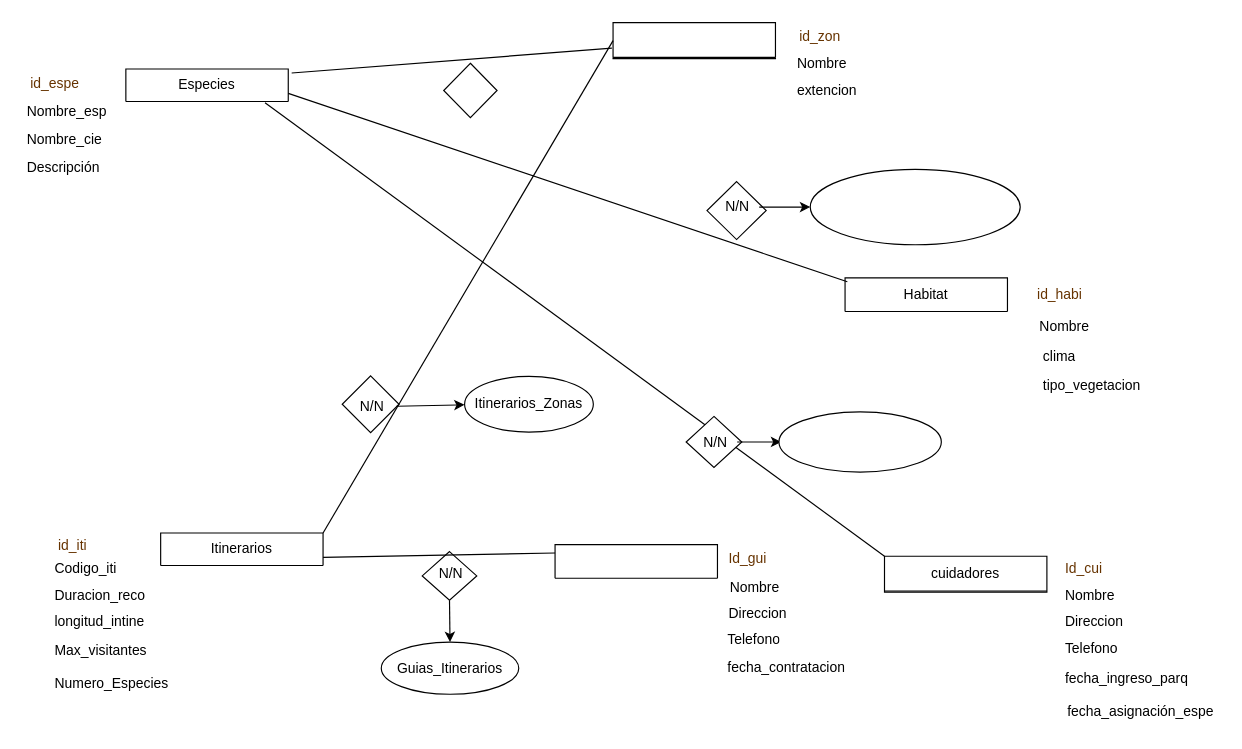
The diagram is 1242 pixels wide and 749 high, and some of its shapes have lost their labels. Here are the shapes that lost their labels. From the top down, the box of each, then its label:
(612, 21, 775, 59): Zonas
(443, 62, 497, 118): 1/N
(809, 168, 1020, 245): Especies_habitat
(778, 411, 941, 472): Cuidadores_Especies
(554, 543, 717, 578): Guias
